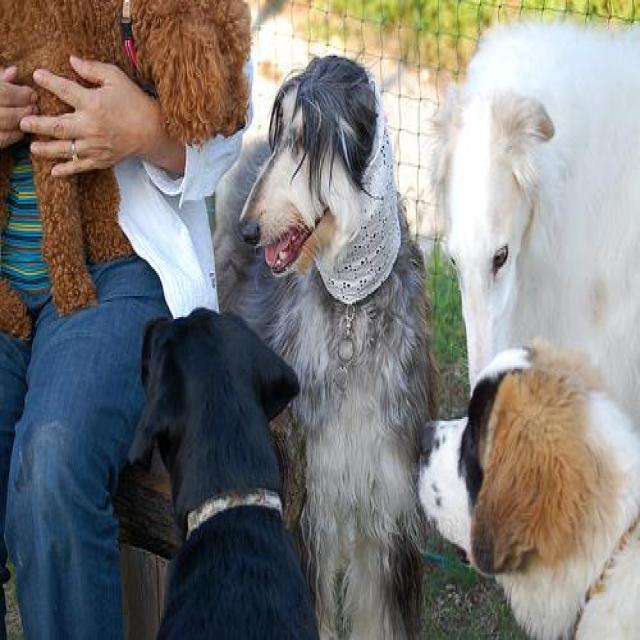afghan_hound: (212, 54, 434, 638), (430, 15, 638, 394)
